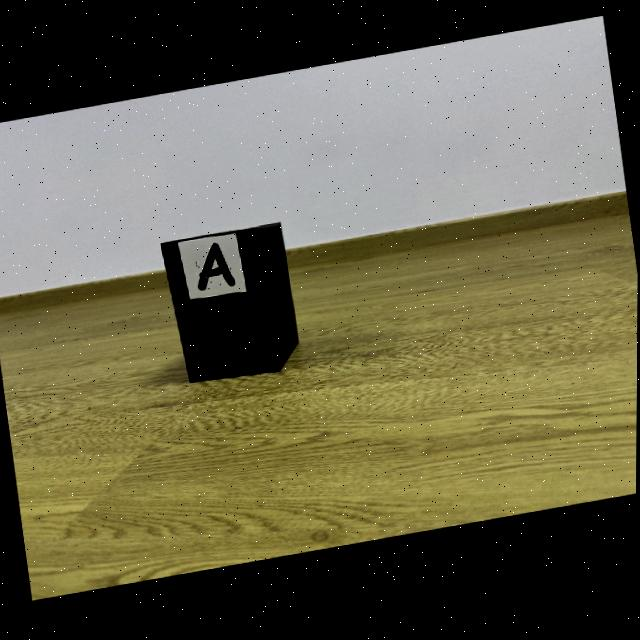A: (198, 245, 236, 292)
